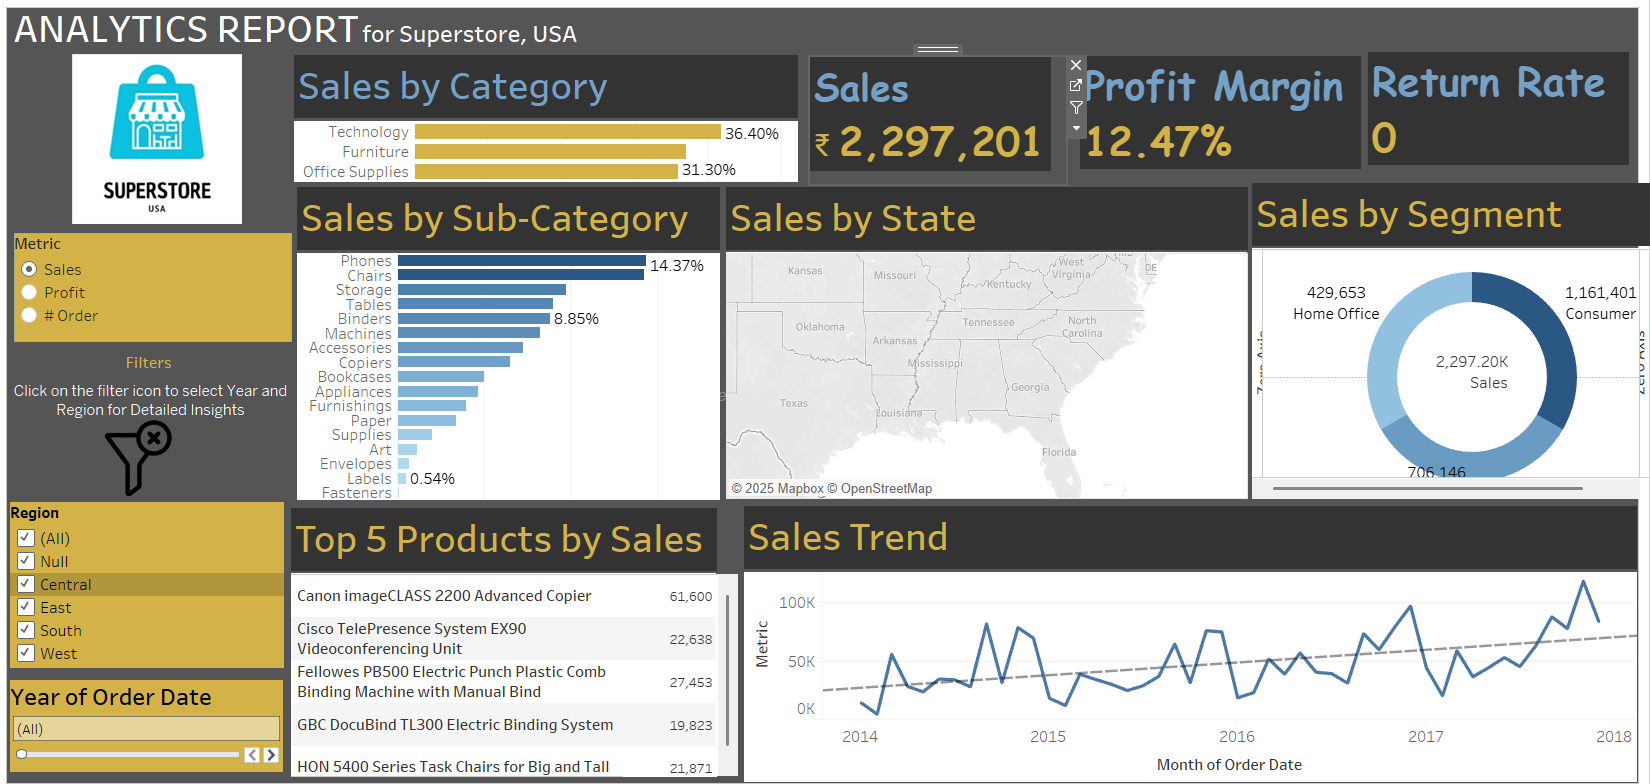

What the dashboard file says about the page in this screenshot:
{"tool":"tableau","page":{"name":"Dashboard","canvas":[1000,1000],"units":"permille","ordinal":0},"visuals":[{"type":"text","box":[9.7,8.7,983.1,63.7]},{"type":"image","box":[4.8,10,990.3,980]},{"type":"worksheet","title":"Profit Margin (2)","mark":"Automatic","box":[829.2,71.2,170.2,154.8]},{"type":"image","param":"Image/Picture3.jpg","box":[7.9,73.7,181.1,212.2]},{"type":"worksheet","title":"Sales by Category","mark":"Bar","rows":["Category"],"cols":["Calculation_827255011161214977"],"box":[181.1,74.9,304.2,161.1]},{"type":"worksheet","title":"Profit Margin ","mark":"Automatic","box":[655.4,76.2,182.9,142.3]},{"type":"worksheet","title":"Sales","mark":"Automatic","box":[492.5,77.4,154.5,158.6]},{"type":"worksheet","title":"Sales by Sub-Category","mark":"Bar","rows":["Sub-Category"],"box":[182.9,239.7,255.3,390.8]},{"type":"worksheet","title":"Sales by State","mark":"Automatic","box":[441.8,239.7,315,389.5]},{"type":"parameter","param":"[Parameters].[Parameter 2]","box":[12.1,297.1,167.8,136.1]},{"type":"worksheet","title":"KPI Cards ","mark":"Automatic","box":[855.8,430.7,70.6,81.2]},{"type":"text","box":[20.5,439.4,145.4,37.5]},{"type":"text","box":[9.7,481.9,169.6,47.4]},{"type":"image","param":"Image/Picture2.png","box":[61.6,530.6,51.3,94.9]},{"type":"filter","title":"Filters","param":"[federated.02p204914f5ybh17f29q917cfi87].[none:Region:nk]","box":[9.7,633,165.4,207.2]},{"type":"worksheet","title":"Sales Trend","mark":"Automatic","rows":["Calculation_827255011161214977"],"cols":["Order Date"],"box":[452.6,638,538.9,344.6]},{"type":"worksheet","title":"Top 5 Products by Sales","mark":"Automatic","rows":["Product Name"],"box":[179.2,640.5,275.8,335.8]},{"type":"filter","title":"Filters","param":"[federated.02p204914f5ybh17f29q917cfi87].[md:Order Date:ok]","box":[9.7,855.2,164.8,114.9]}]}

Visuals, with their boxes on the dashboard's canvas, which has no fixed pixel size, in thousandths of its width and height (x1, y1, x2, y2). These are canvas units, not pixel positions in the 1650x784 screenshot, which may show the page scaled, cropped or inside an application window:
text: bbox=[10, 9, 993, 72]
image: bbox=[5, 10, 995, 990]
"Profit Margin (2)" worksheet: bbox=[829, 71, 999, 226]
image: bbox=[8, 74, 189, 286]
"Sales by Category" worksheet (Bar marks): bbox=[181, 75, 485, 236]
"Profit Margin " worksheet: bbox=[655, 76, 838, 218]
"Sales" worksheet: bbox=[492, 77, 647, 236]
"Sales by Sub-Category" worksheet (Bar marks): bbox=[183, 240, 438, 630]
"Sales by State" worksheet: bbox=[442, 240, 757, 629]
parameter: bbox=[12, 297, 180, 433]
"KPI Cards " worksheet: bbox=[856, 431, 926, 512]
text: bbox=[20, 439, 166, 477]
text: bbox=[10, 482, 179, 529]
image: bbox=[62, 531, 113, 626]
"Filters" filter: bbox=[10, 633, 175, 840]
"Sales Trend" worksheet: bbox=[453, 638, 992, 983]
"Top 5 Products by Sales" worksheet: bbox=[179, 640, 455, 976]
"Filters" filter: bbox=[10, 855, 174, 970]
